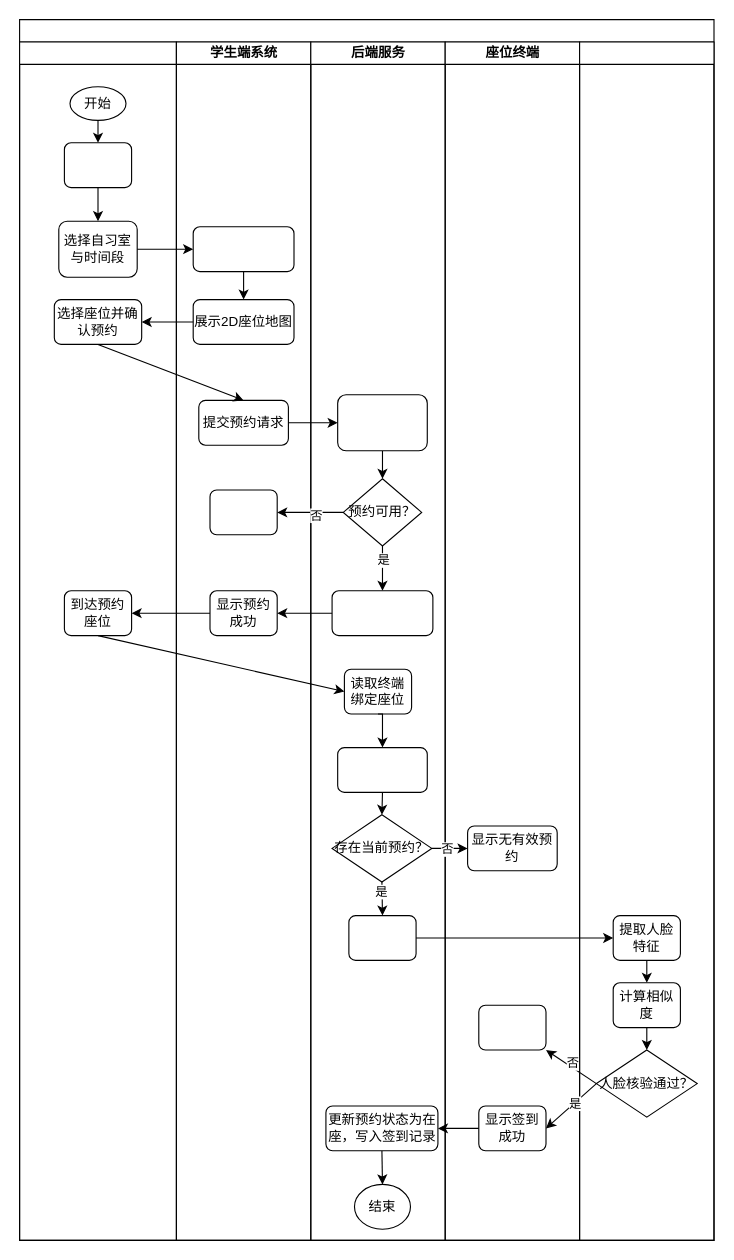
Some shapes in this 734 by 1260 pixel diagram are drawn without their labels. Each missing label, with the box of its shape:
AI服务: (578, 41, 714, 1240)
学生用户: (18, 41, 176, 1240)
展示自习室推荐: (192, 226, 294, 272)
显示签到失败原因: (478, 1004, 546, 1050)
显示预约失败原因: (209, 489, 277, 535)
查询当前预约: (337, 746, 427, 792)
校验预约时间与业务规则: (337, 394, 427, 451)
生成预约记录，状态：待签到: (331, 590, 433, 636)
登录系统: (63, 142, 132, 188)
采集人脸图像: (348, 914, 416, 960)
